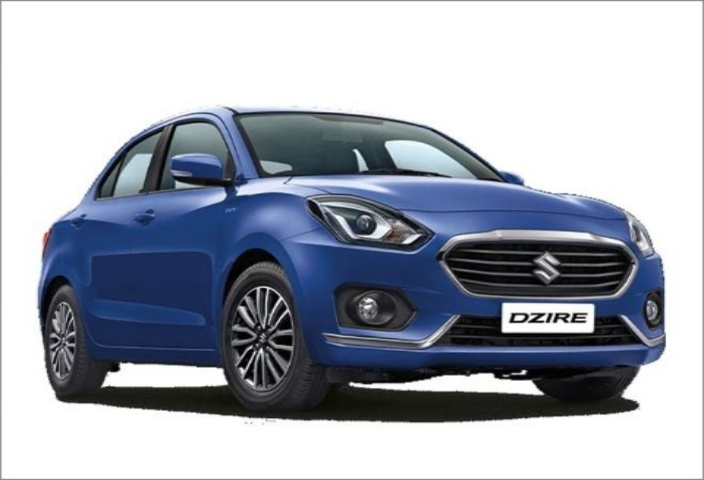car: (30, 102, 674, 438)
